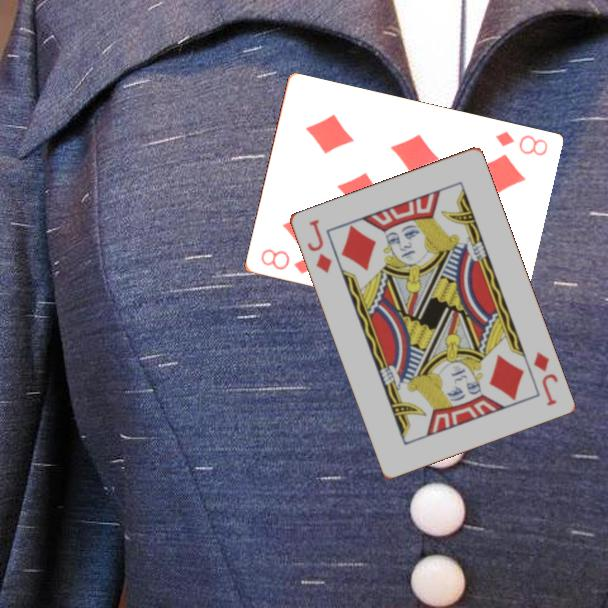d08: (257, 245, 316, 277), (492, 128, 550, 159)
d11: (303, 215, 334, 276), (530, 348, 561, 409)
